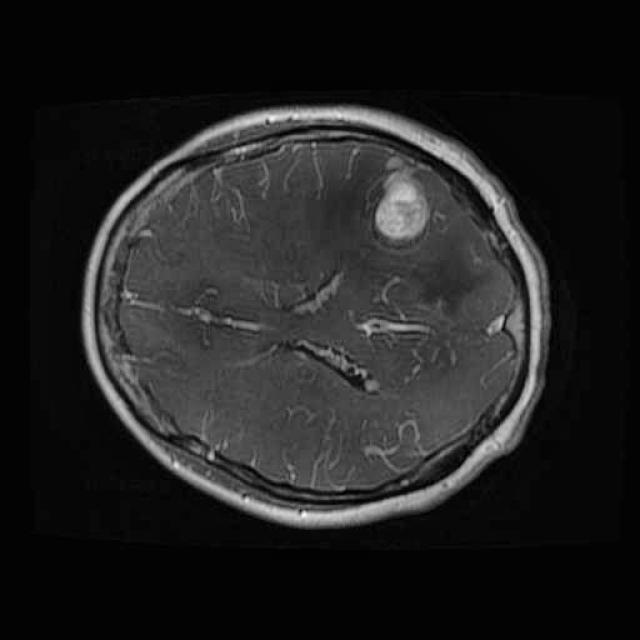Non-Tumor: (364, 143, 441, 251)
